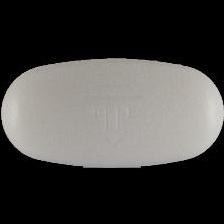54868-4605: (0, 0, 224, 224)
